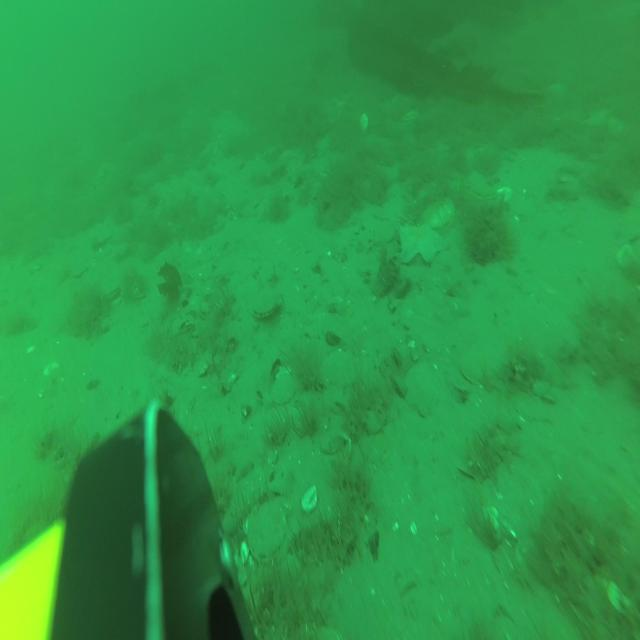scallop: (246, 504, 288, 558), (463, 170, 498, 203), (423, 196, 456, 228), (252, 284, 282, 314), (399, 107, 420, 120), (358, 110, 368, 134)
starfish: (400, 221, 448, 261)
